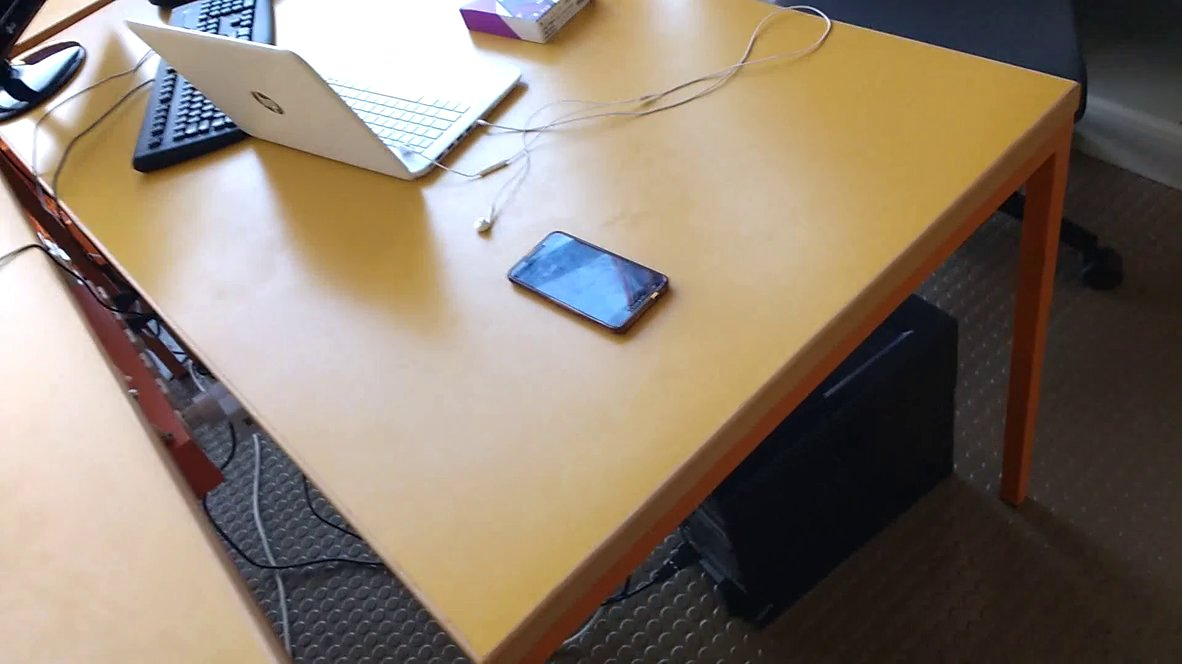laptop: (113, 10, 535, 190)
phone: (503, 223, 682, 345)
